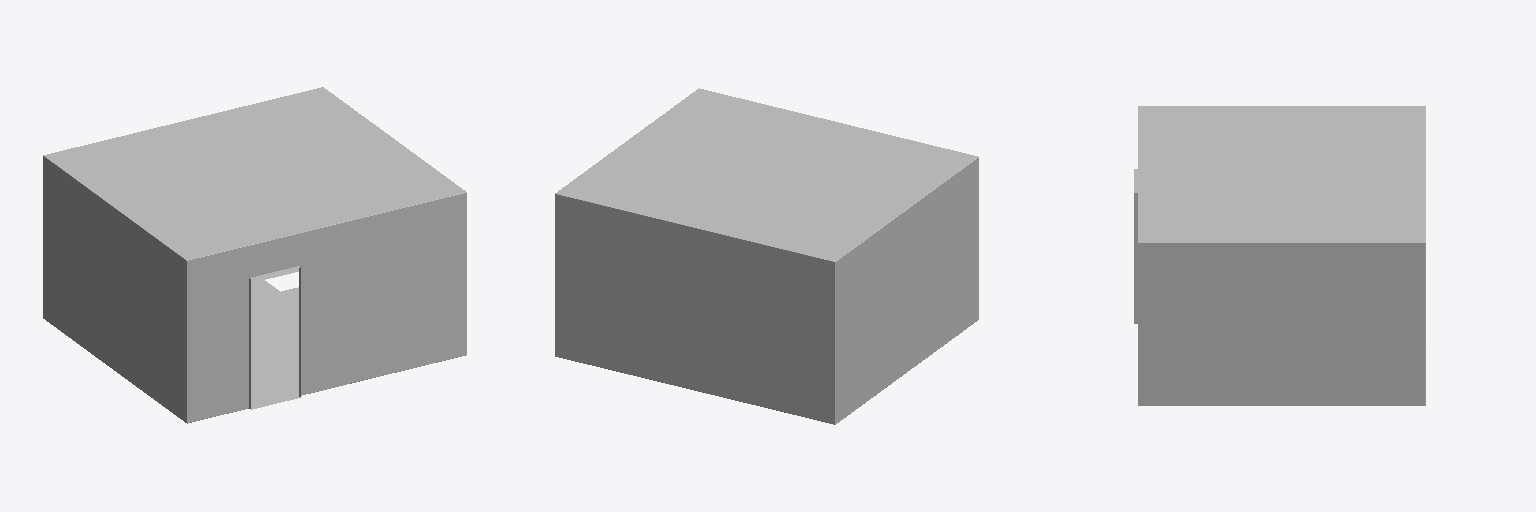
Rendered from hor1 toilet2a.obj.
3 views of the same model, side by side, from view 1: azimuth 30°, elevation 25°; view 2: azimuth 150°, elevation 25°; view 3: azimuth 270°, elevation 25° (orthographic).
Parts seen in each view (by area): view 1: toilet_2_Plane.031; view 2: toilet_2_Plane.031; view 3: toilet_2_Plane.031.
Part boxes in pixels (bbox=[...]): toilet_2_Plane.031: bbox=[43, 87, 466, 423]; toilet_2_Plane.031: bbox=[555, 88, 978, 424]; toilet_2_Plane.031: bbox=[1134, 106, 1425, 405].
Size of the model in its own units: 4.5 by 2.5 by 4.05.